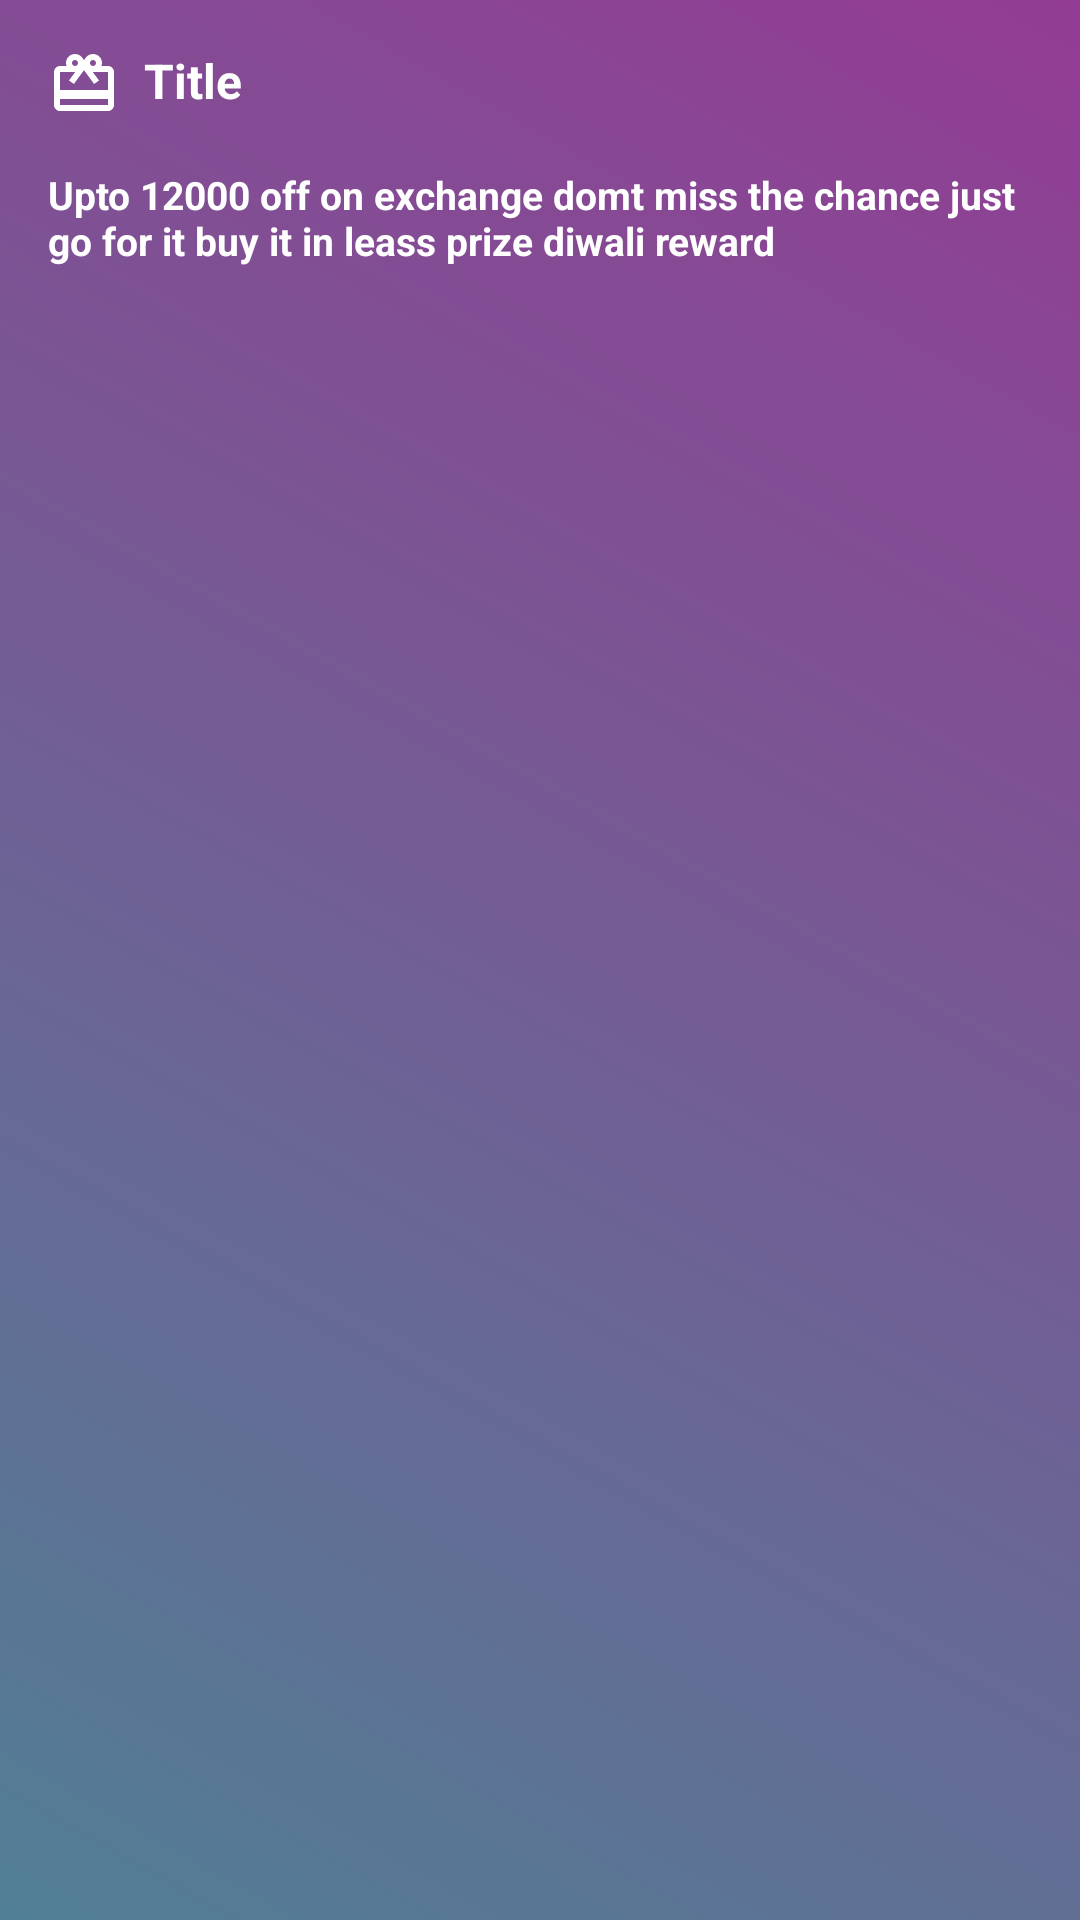

Icons on this 1080w x 1920h Android screen, each with the point to tap as [x,y]:
giftcard: [84,82]
